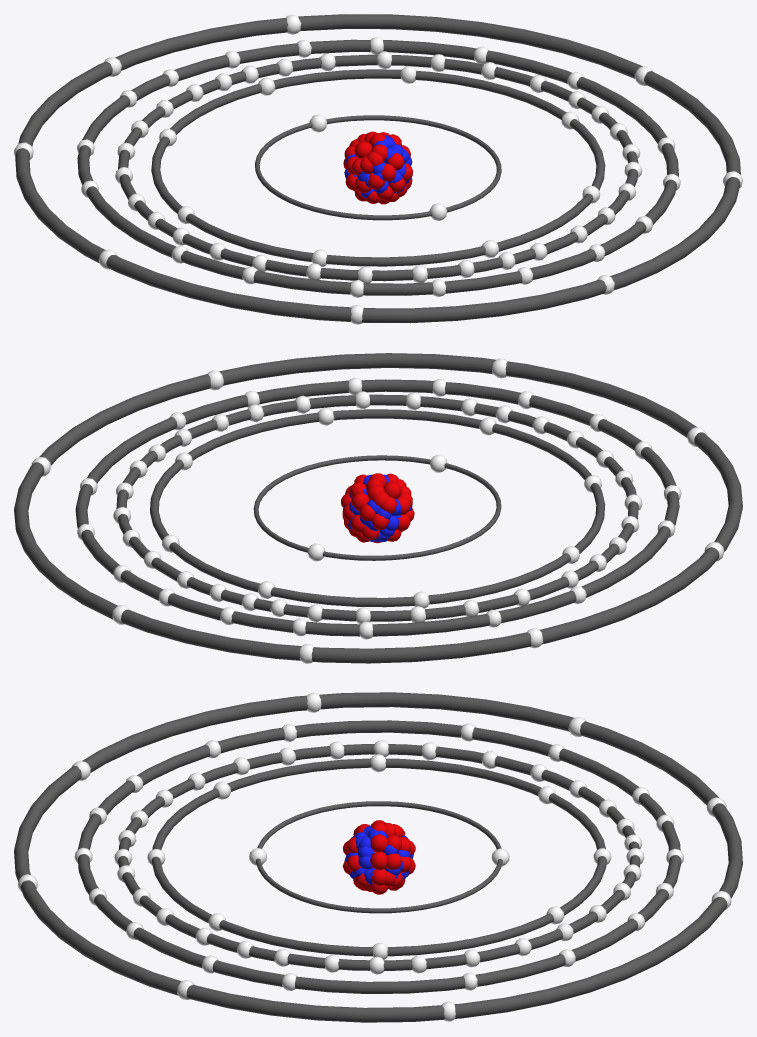
Rendered from 50 Estaño.fbx.
3 views of the same model, one above another, from view 1: azimuth 30°, elevation 25°; view 2: azimuth 150°, elevation 25°; view 3: azimuth 270°, elevation 25° (orthographic).
Visible parts, largest first — view 1: Orbita.005, Orbita.004, Orbita.003, Orbita.002, Electron.111, Orbita.001; view 2: Orbita.005, Orbita.004, Orbita.003, Orbita.002, Electron.111, Orbita.001; view 3: Orbita.005, Orbita.004, Orbita.003, Orbita.002, Electron.111, Orbita.001.
Boxes of the visible parts, left/top/right/bottom form: Orbita.005: left=15, top=14, right=740, bottom=323; Orbita.004: left=77, top=39, right=678, bottom=295; Orbita.003: left=118, top=54, right=638, bottom=281; Orbita.002: left=151, top=69, right=605, bottom=266; Electron.111: left=343, top=131, right=413, bottom=204; Orbita.001: left=255, top=115, right=501, bottom=220; Orbita.005: left=14, top=353, right=742, bottom=663; Orbita.004: left=75, top=379, right=679, bottom=636; Orbita.003: left=116, top=394, right=638, bottom=621; Orbita.002: left=150, top=409, right=605, bottom=607; Electron.111: left=341, top=473, right=414, bottom=543; Orbita.001: left=253, top=455, right=501, bottom=560; Orbita.005: left=14, top=692, right=742, bottom=1022; Orbita.004: left=77, top=720, right=681, bottom=993; Orbita.003: left=118, top=744, right=640, bottom=970; Orbita.002: left=151, top=758, right=606, bottom=956; Electron.111: left=342, top=820, right=415, bottom=894; Orbita.001: left=256, top=801, right=502, bottom=913.
Bounding box in the file's own units: 27.46 × 27.46 × 2.85.
